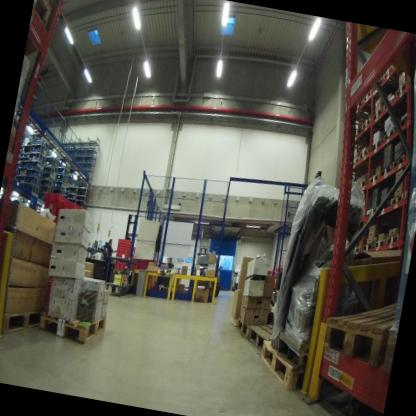pallet: (316, 281, 403, 381), (255, 340, 328, 400), (37, 294, 110, 353), (243, 305, 304, 369), (265, 318, 321, 375), (0, 290, 50, 348), (377, 56, 416, 103), (236, 300, 269, 347), (29, 0, 58, 39), (228, 310, 251, 338), (396, 108, 413, 140), (358, 234, 377, 259), (381, 124, 396, 150), (369, 134, 384, 159), (383, 92, 398, 116), (377, 161, 393, 183), (368, 198, 383, 221), (346, 150, 362, 171), (387, 191, 403, 212), (391, 150, 406, 172), (376, 196, 392, 216), (372, 233, 388, 253), (365, 168, 381, 187), (353, 175, 369, 192), (384, 233, 400, 250), (361, 115, 372, 137), (352, 96, 367, 111), (360, 145, 370, 165), (371, 107, 382, 125), (350, 240, 361, 258), (352, 122, 363, 138), (363, 87, 372, 103), (372, 79, 379, 90)
